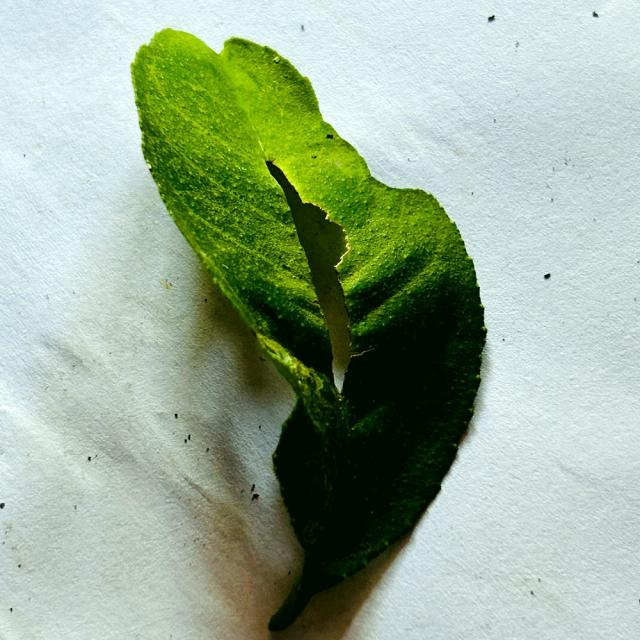Deficiency Leaf: (157, 200, 296, 483), (266, 161, 355, 383)
Lemon: (132, 29, 484, 628)
